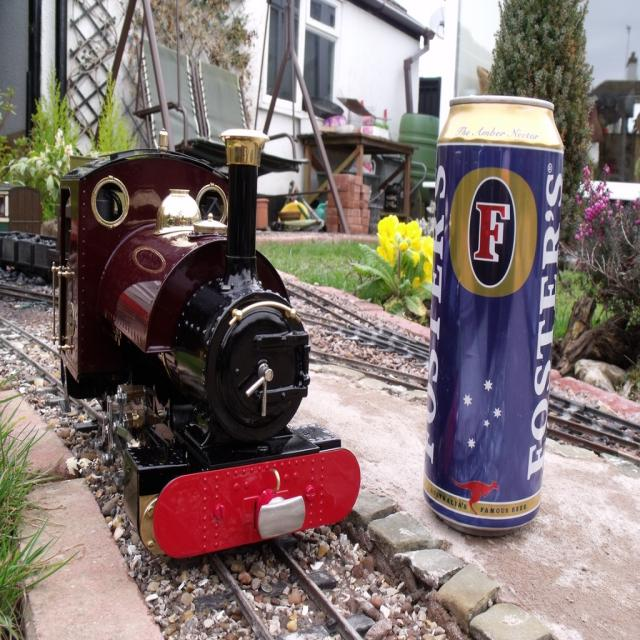fosters: (449, 166, 541, 301)
